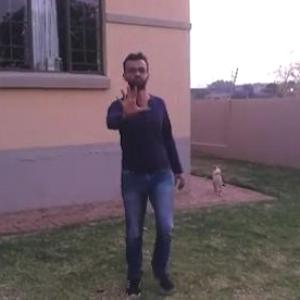follow_hand: (113, 78, 154, 121)
